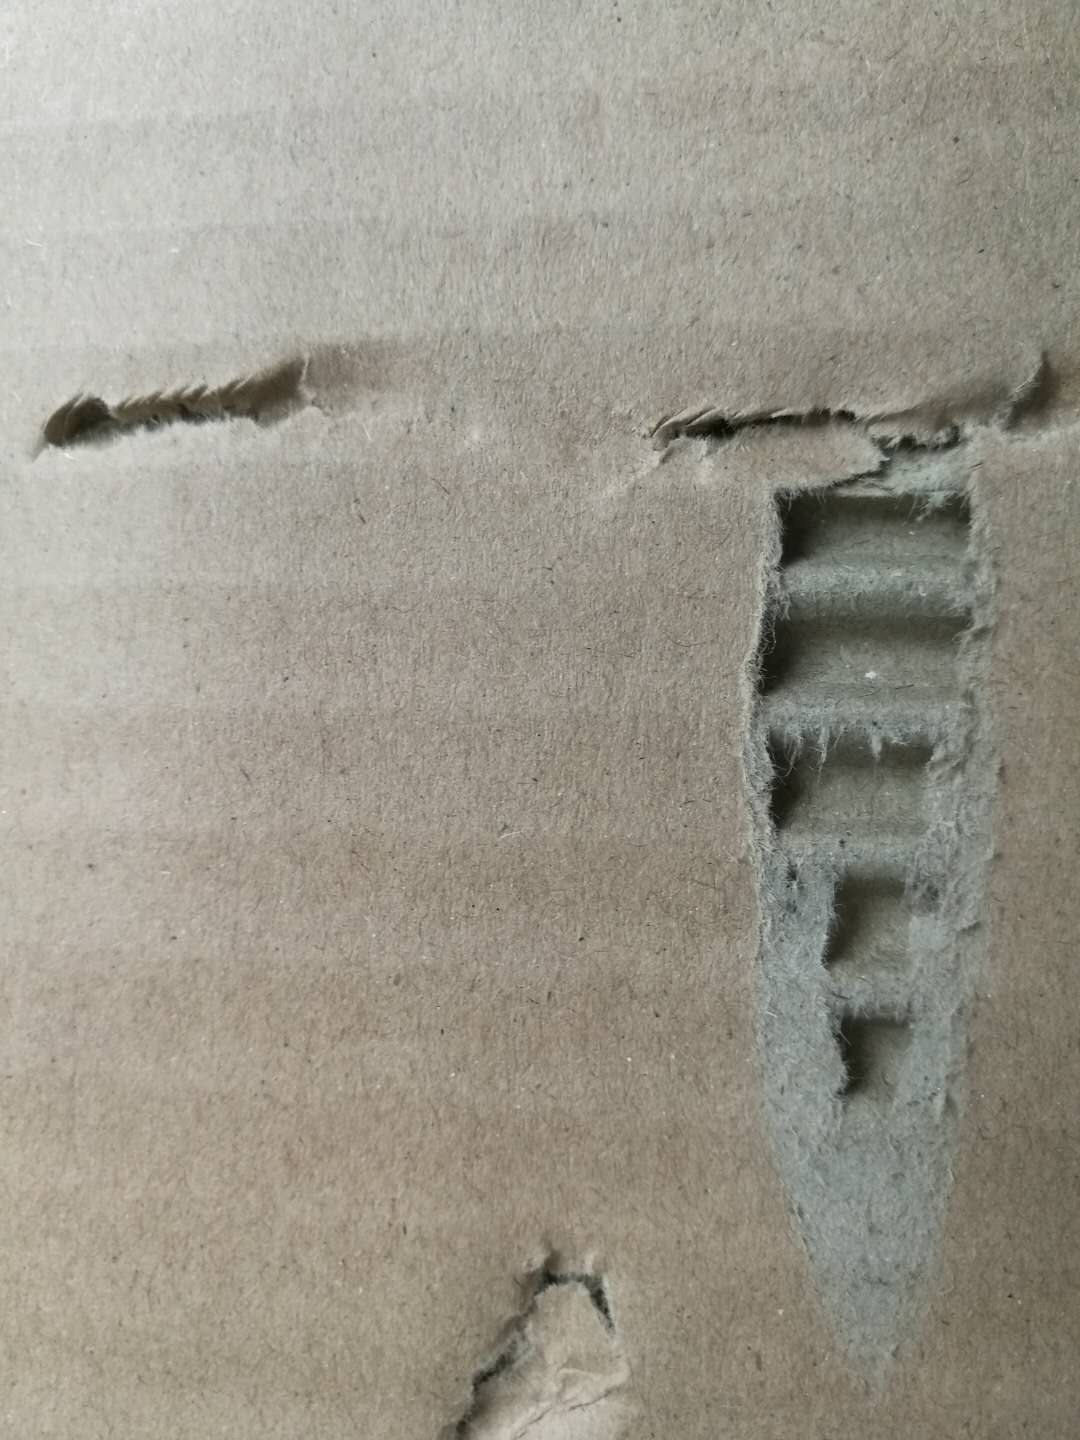defect: (623, 322, 1080, 1371), (23, 300, 499, 507), (419, 1212, 670, 1440)
